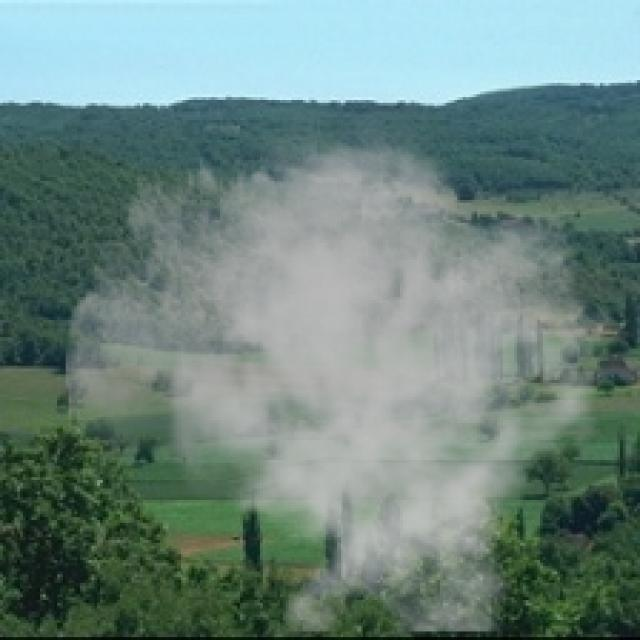Smoke: (63, 91, 620, 632)
